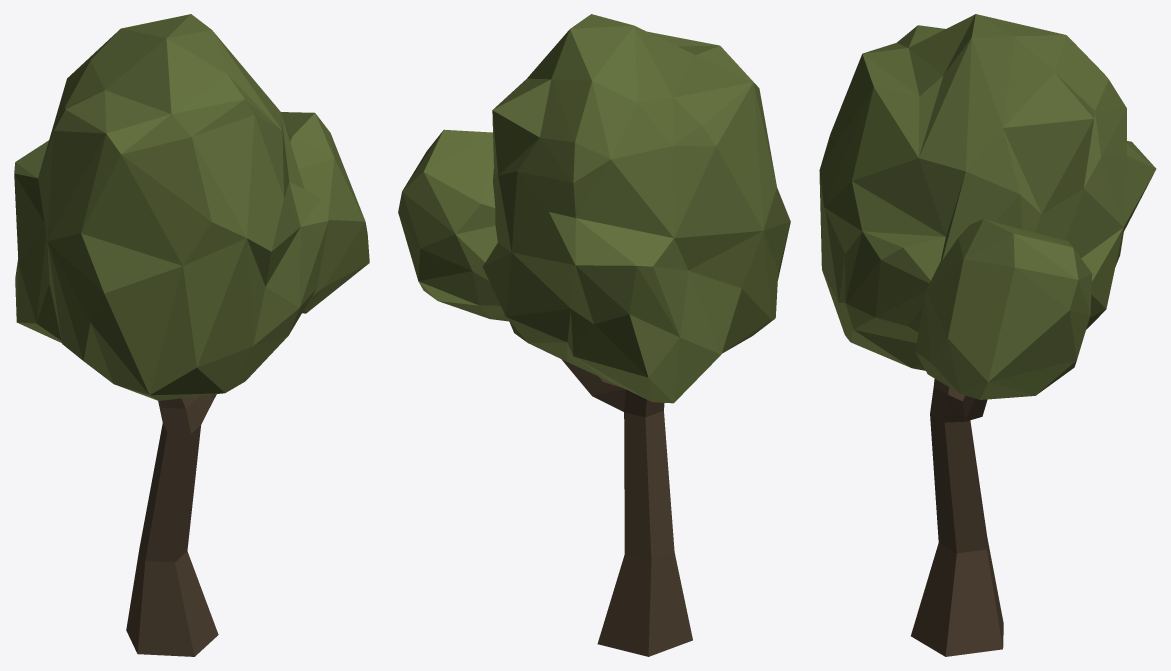
Rendered from tree_c.glb.
3 renders of one model, left to right at view 1: azimuth 30°, elevation 25°; view 2: azimuth 150°, elevation 25°; view 3: azimuth 270°, elevation 25°, orthographic. The views are drawn at different scales.
Parts seen in each view (by area): view 1: SM_Env_Tree_03; view 2: SM_Env_Tree_03; view 3: SM_Env_Tree_03.
Boxes of the visible parts, box(x1,y1,x2,y2) form: SM_Env_Tree_03: box(14, 14, 369, 656); SM_Env_Tree_03: box(398, 14, 790, 656); SM_Env_Tree_03: box(819, 14, 1156, 656).
Size of the model in its own units: 323 by 558 by 273.
1 material, 1 textured.
